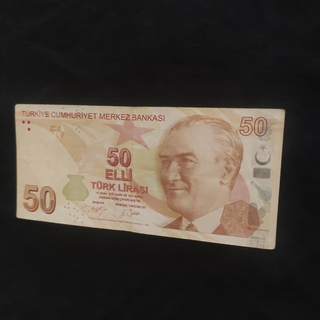50TLFront: (14, 103, 285, 249)
